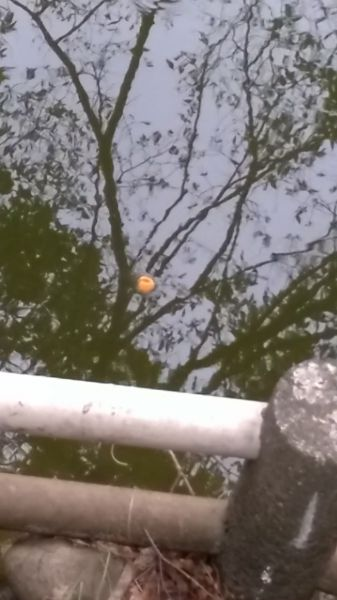eggs: (133, 271, 160, 295)
